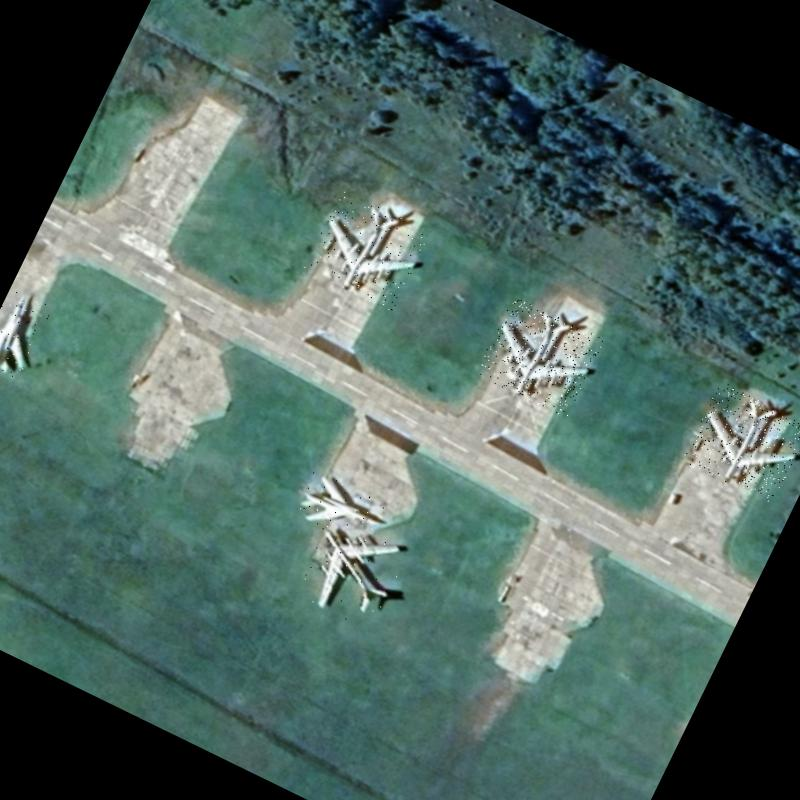A12: (291, 468, 389, 551), (0, 287, 52, 381)
A17: (474, 294, 604, 418), (302, 189, 430, 312), (681, 379, 800, 504), (290, 510, 410, 632)
